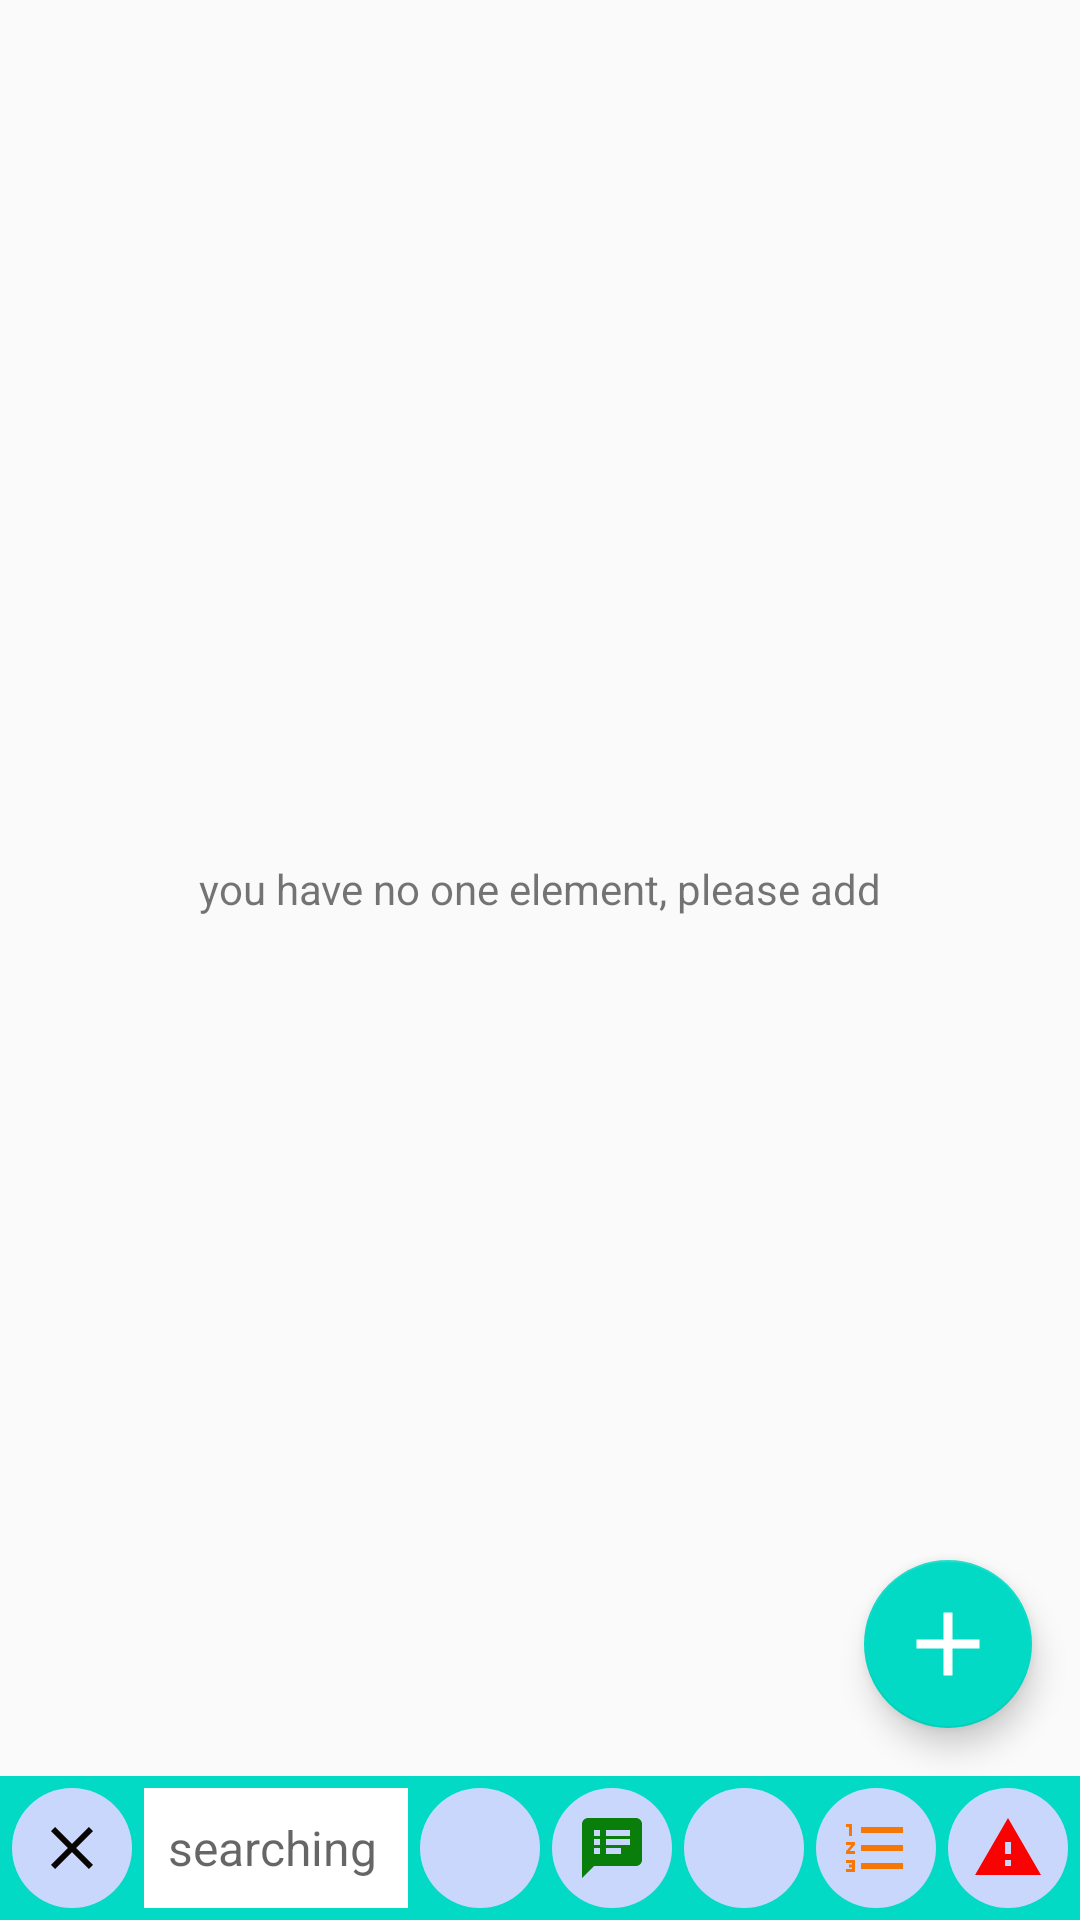

Locate icon controls on the screen. Image size 1080px x 1920px, boxes as (x1, y1, x2, y2).
add: (864, 1560, 1032, 1728)
attention: (948, 1788, 1068, 1908)
close: (12, 1788, 132, 1908)
list to service: (816, 1788, 936, 1908)
notes: (552, 1788, 672, 1908)
